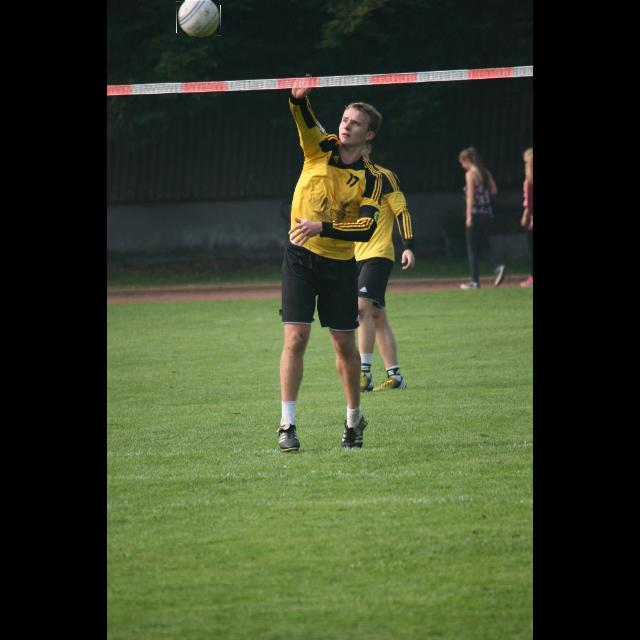Football: (177, 0, 221, 36)
